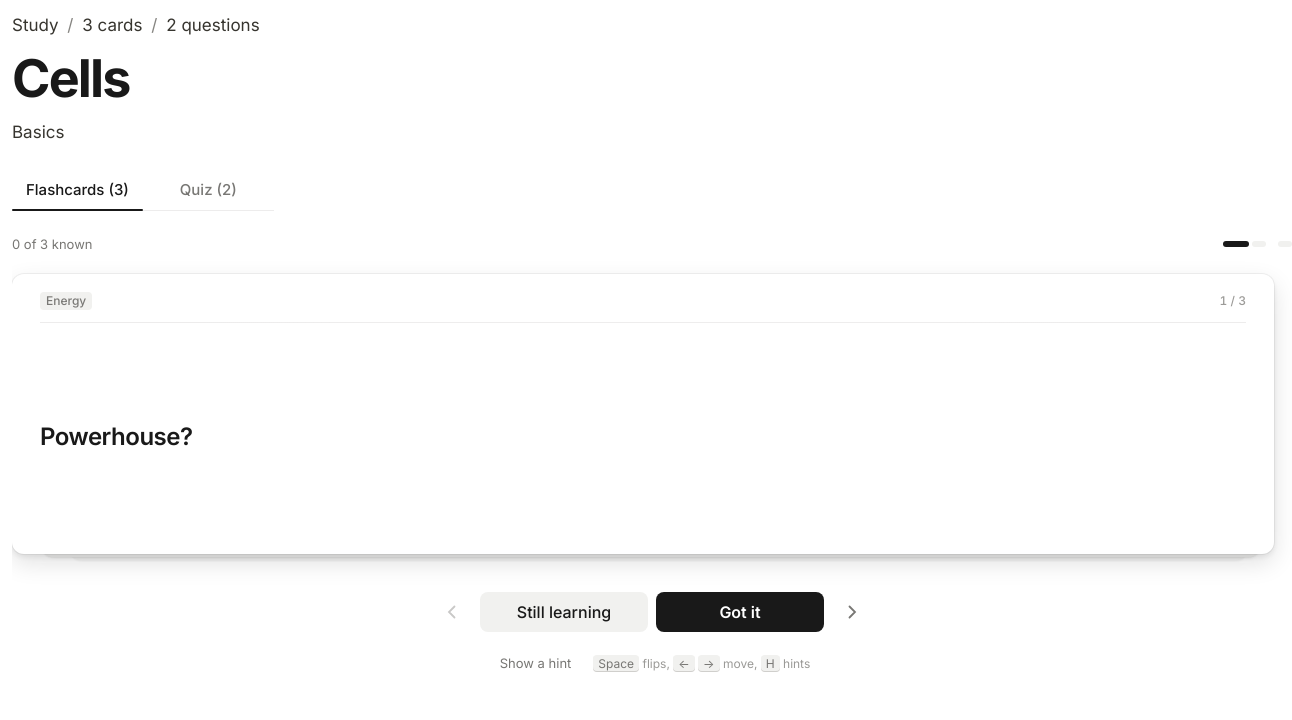
it: StudyView › ends a pass with a summary that offers the cards still learning
The width and height of the screenshot is (1292, 720).
Click the button "Got it". click: (740, 612)
box: [656,592,824,632]
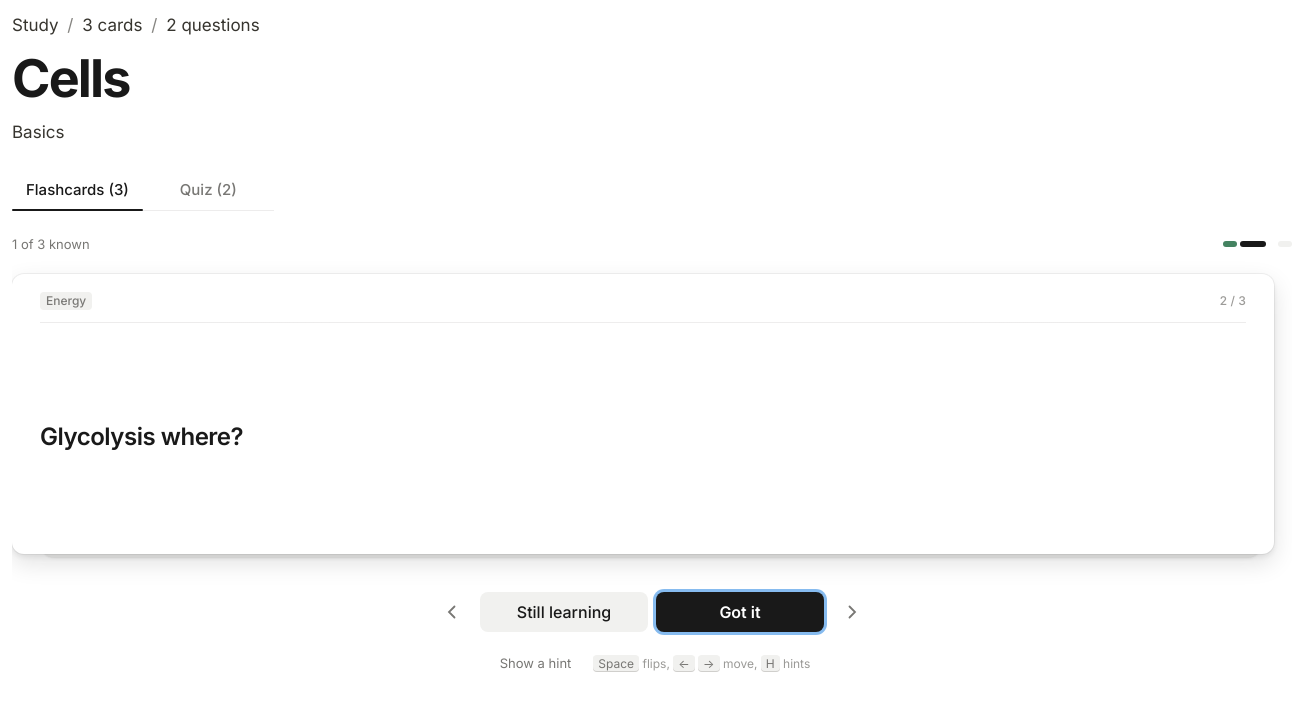
Click the button "Still learning". click: (564, 612)
box: [480,592,648,632]
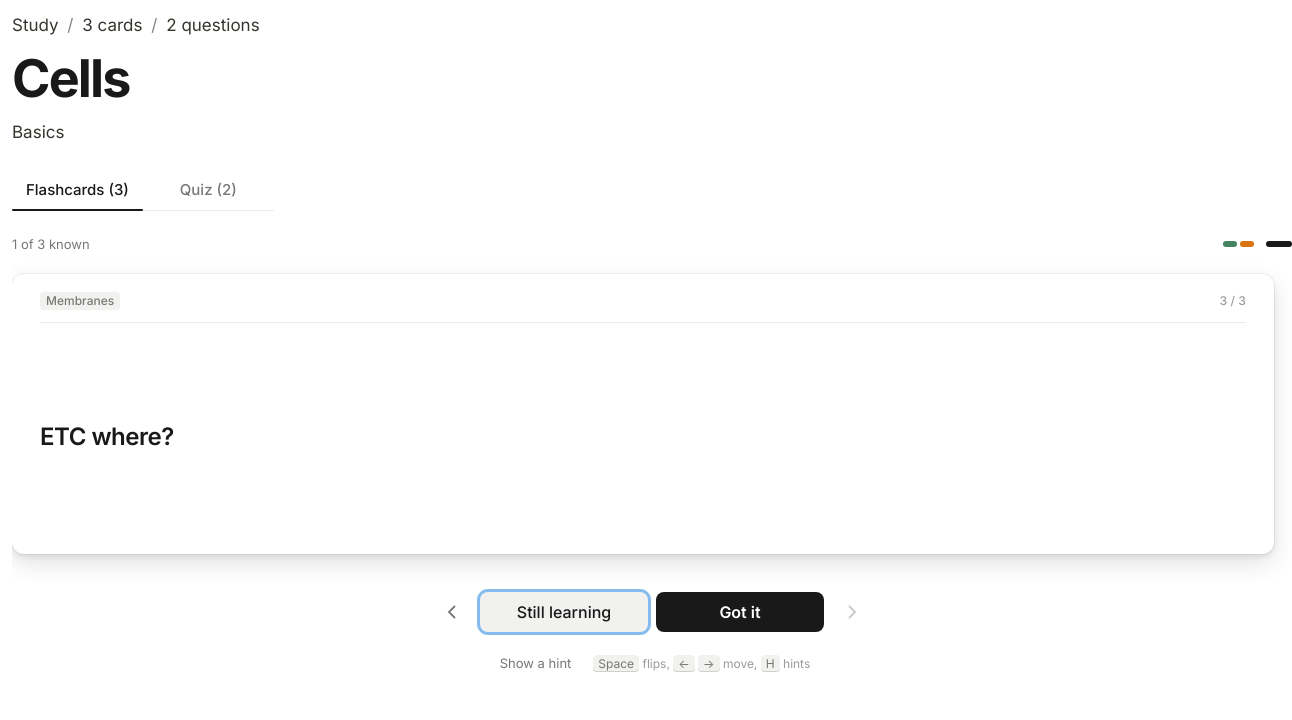
Click the button "Got it". click: (740, 612)
box: [656,592,824,632]
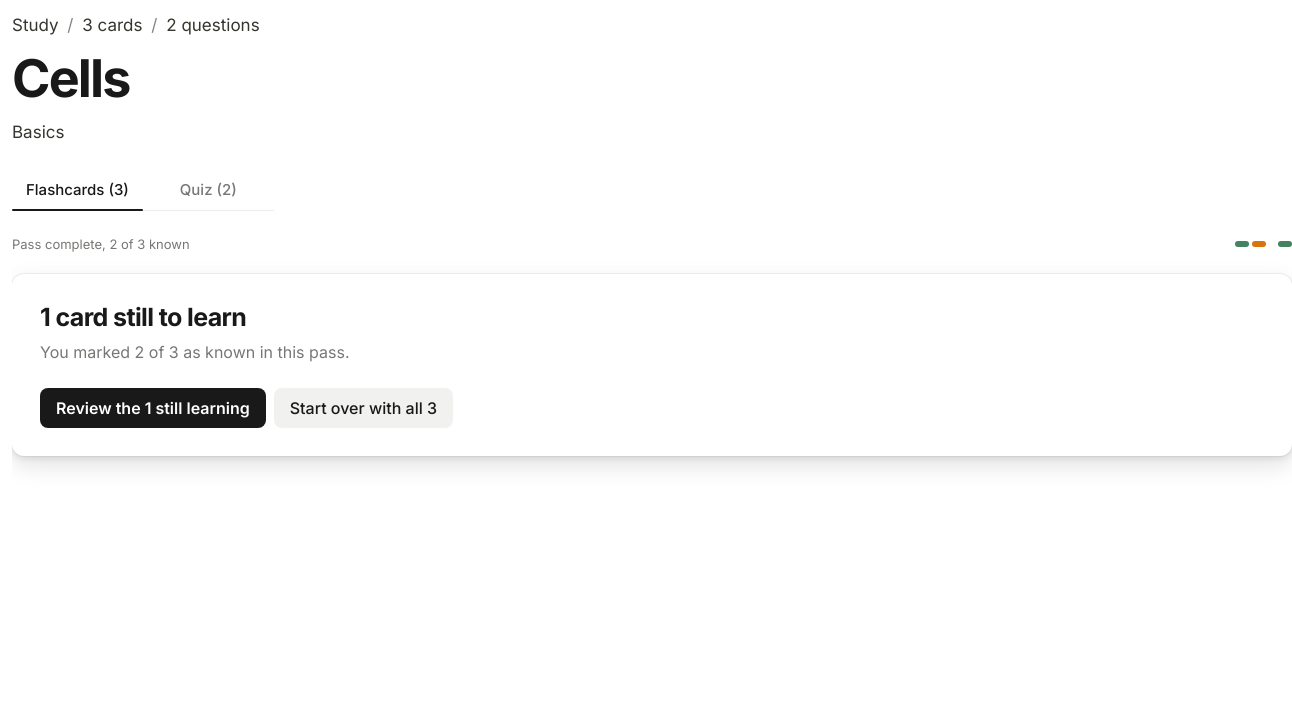
Expected: the text "1 card still to learn" is shown, [40,302,246,332]
Click the button "Review the 1 still learning". click: (153, 408)
box: [40,388,266,428]
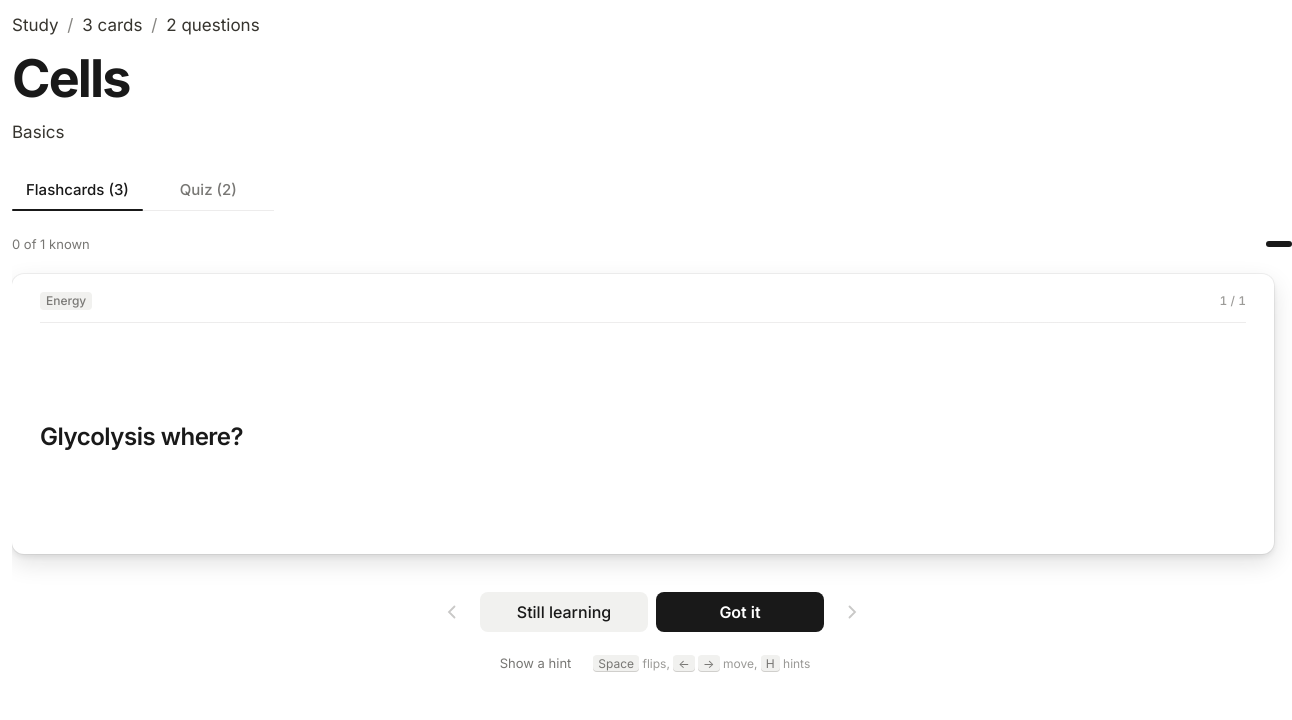
Expected: the text "0 of 1 known" is shown, [12,234,90,254]
